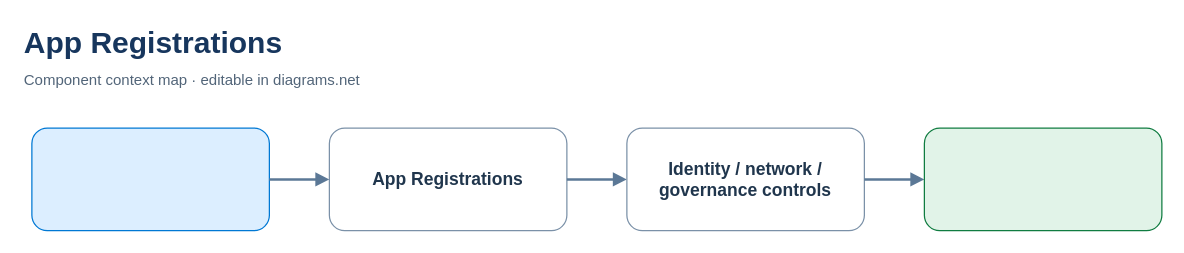
Some shapes in this 1184 by 253 pixel diagram are drawn without their labels. Each missing label, with the box of its shape:
B · Identity & Access Management: (31, 127, 269, 231)
Monitoring / resilience / operations: (923, 127, 1162, 231)
